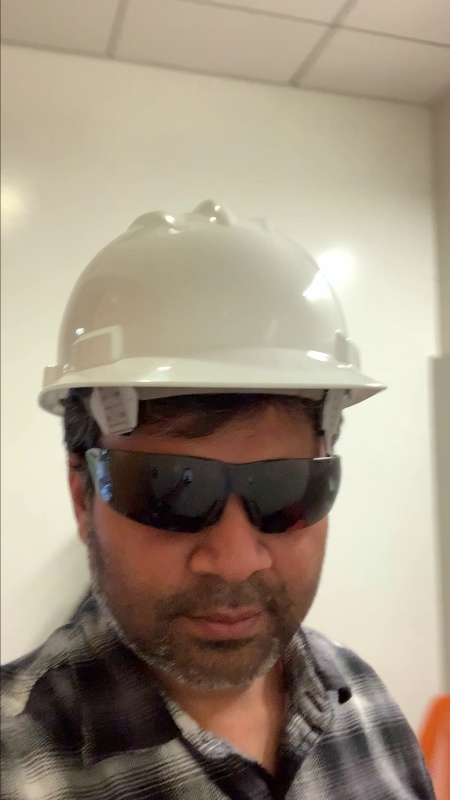glasses: (93, 439, 342, 542)
helmet: (31, 196, 398, 413)
